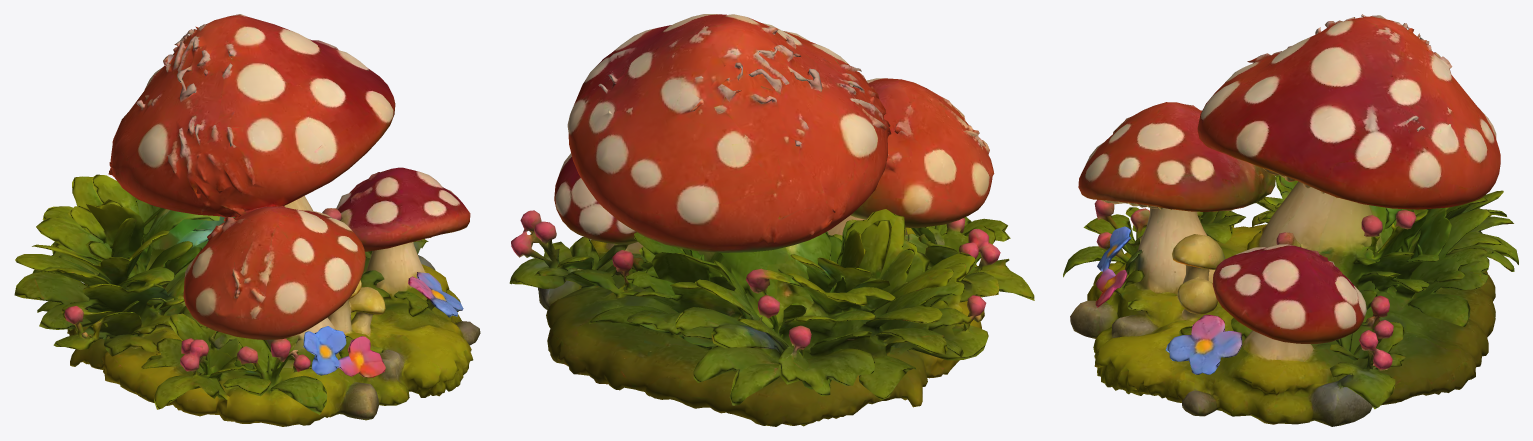
File: reading-mushroom-cluster.glb
3 views of the same model, side by side, from view 1: azimuth 30°, elevation 25°; view 2: azimuth 150°, elevation 25°; view 3: azimuth 270°, elevation 25° (orthographic). The views are drawn at different scales.
Size of the model in its own units: 0.9949 by 0.7337 by 0.9385.
1 material, 1 textured.
